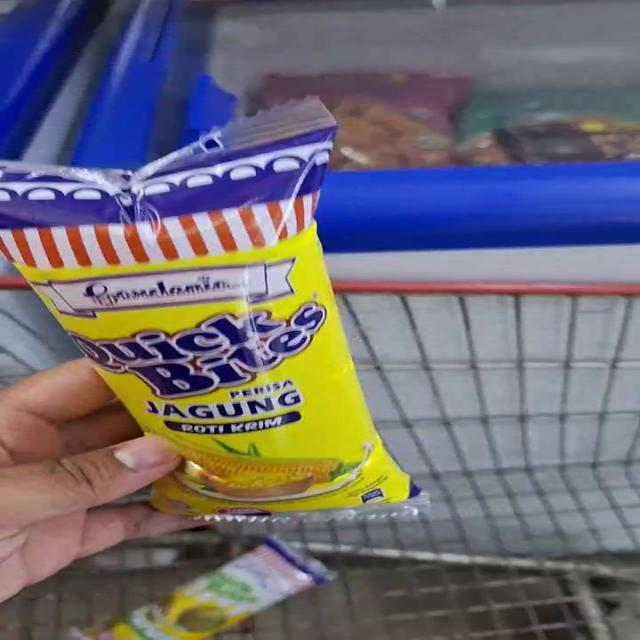Roti: (5, 150, 471, 516), (82, 541, 343, 640)
